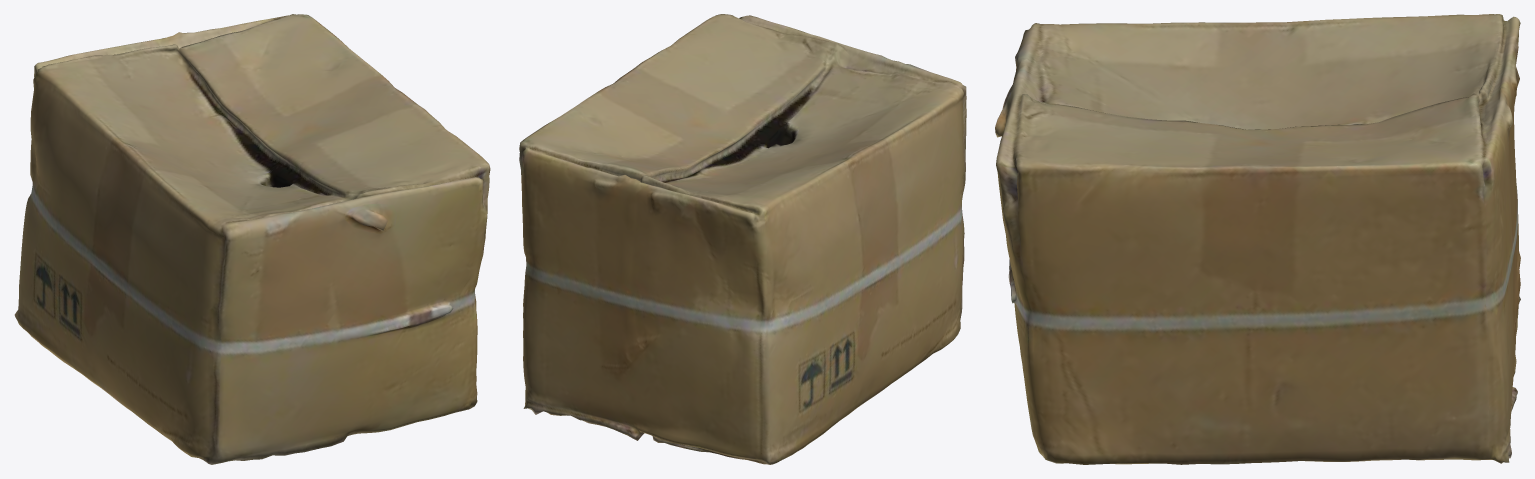
Rendered from cardboard-box.glb.
3 views of the same model, side by side, from view 1: azimuth 30°, elevation 25°; view 2: azimuth 150°, elevation 25°; view 3: azimuth 270°, elevation 25° (orthographic). The views are drawn at different scales.
Parts seen in each view (by area): view 1: cardboard_box_01; view 2: cardboard_box_01; view 3: cardboard_box_01.
Boxes of the visible parts, x1,y1,x2,y2 form: cardboard_box_01: (14,14,490,464); cardboard_box_01: (519,14,966,464); cardboard_box_01: (995,14,1520,464).
Bounding box in the file's own units: 0.387 × 0.3418 × 0.5159.
1 material, 1 textured.
